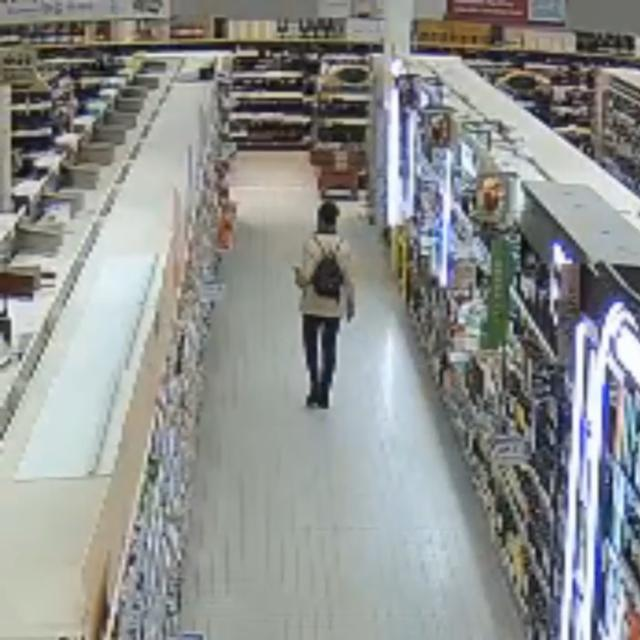bags: (311, 242, 344, 299)
hands: (347, 301, 355, 322)
person: (295, 201, 354, 408)
